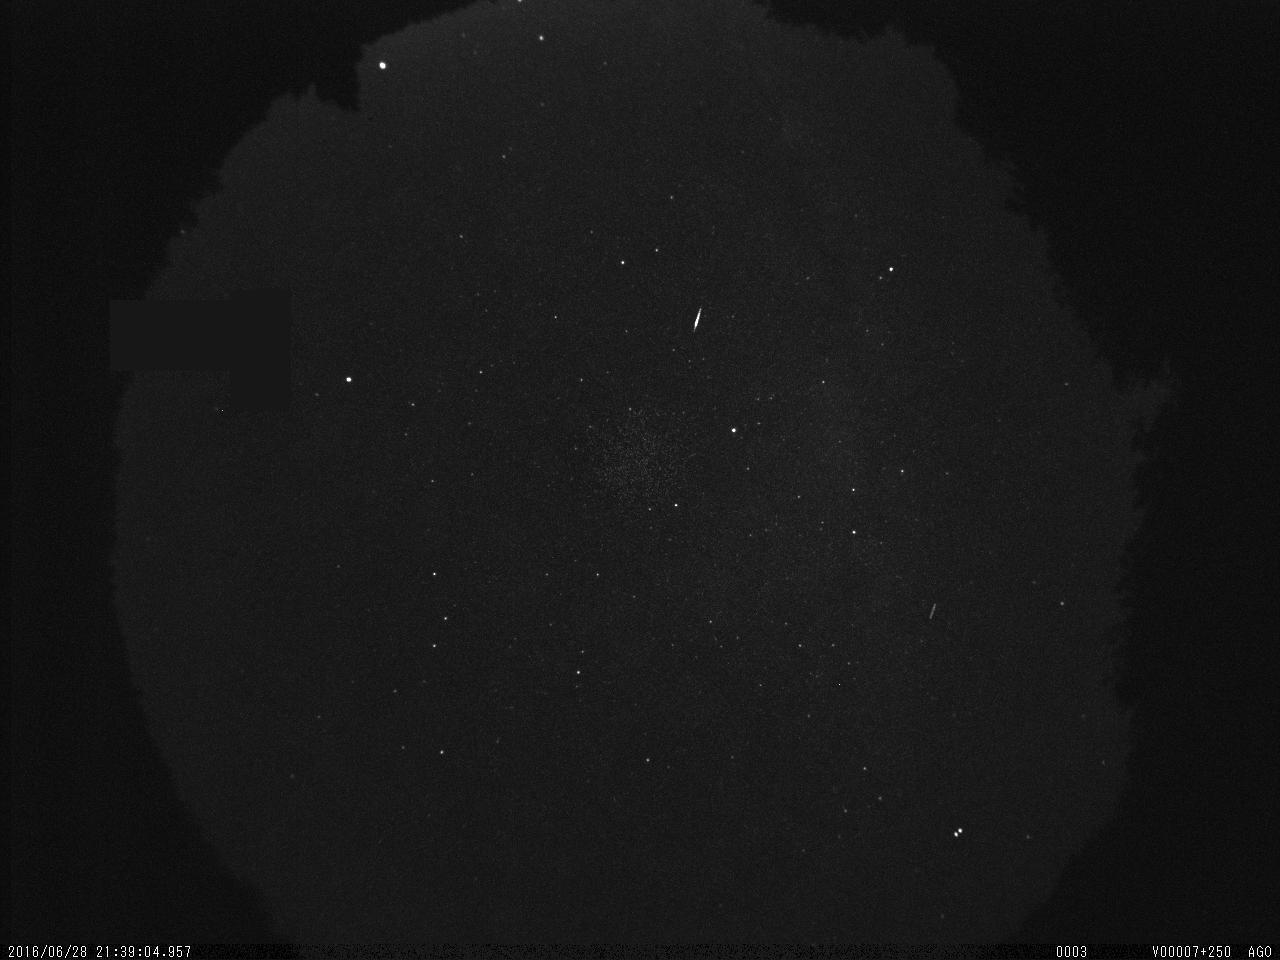meteor: (683, 294, 710, 347)
